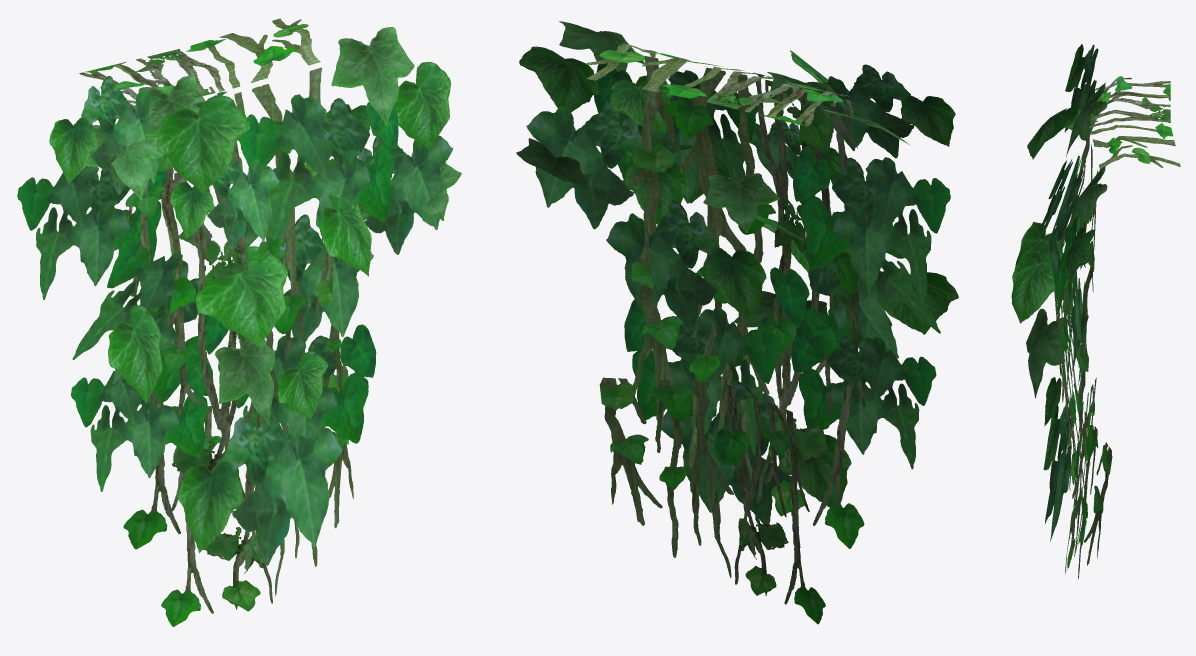
The model's file is ivy_a.fbx.
The picture shows the model from 3 angles, left to right: view 1: azimuth 30°, elevation 25°; view 2: azimuth 150°, elevation 25°; view 3: azimuth 270°, elevation 25°; orthographic projection. The views are drawn at different scales.
Parts seen in each view (by area): view 1: ivy_a; view 2: ivy_a; view 3: ivy_a.
Boxes of the visible parts, x1,y1,x2,y2 form: ivy_a: [17, 18, 461, 626]; ivy_a: [516, 21, 958, 624]; ivy_a: [1011, 44, 1180, 579].
Size of the model in its own units: 301 by 378 by 127.
